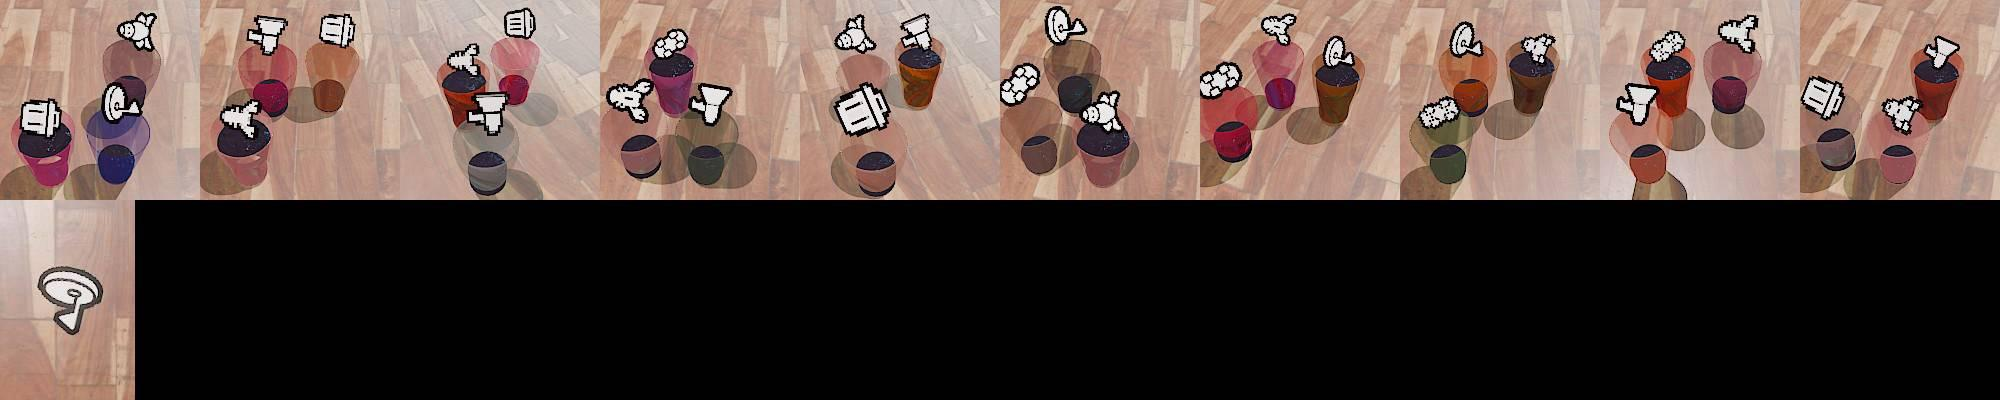icon: (32, 265, 107, 336), (832, 80, 892, 138), (605, 78, 656, 124), (1801, 74, 1846, 121), (1078, 89, 1124, 134), (1616, 82, 1659, 126), (690, 83, 733, 127), (19, 97, 64, 139), (102, 79, 144, 124), (1000, 62, 1042, 106), (469, 89, 510, 134), (1043, 5, 1087, 46), (833, 13, 876, 54), (246, 15, 288, 56), (1880, 94, 1921, 135), (116, 11, 157, 52), (1717, 15, 1758, 55), (219, 101, 260, 140), (1199, 60, 1241, 97), (1418, 94, 1460, 129), (319, 13, 356, 50), (1449, 20, 1485, 59), (899, 13, 934, 52), (1925, 36, 1960, 71), (1648, 31, 1686, 64), (1519, 33, 1557, 66), (1320, 36, 1355, 70), (1260, 13, 1296, 46), (445, 43, 482, 75), (652, 28, 689, 60), (504, 8, 537, 39)
